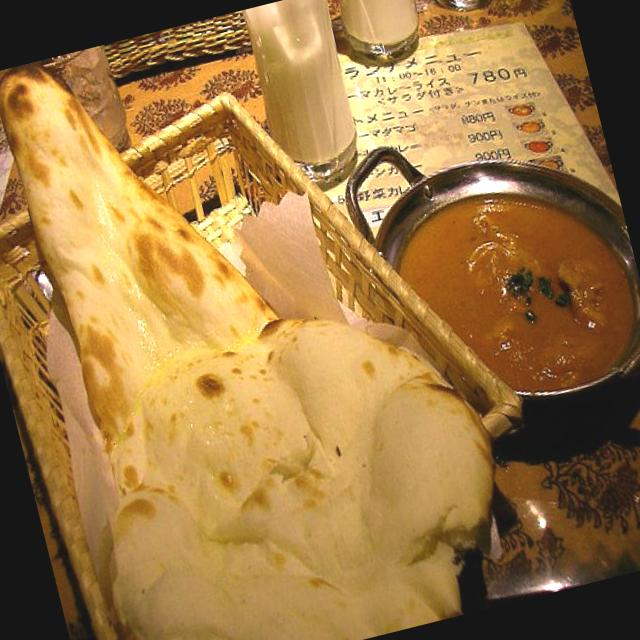Beef Curry: (434, 180, 630, 390)
